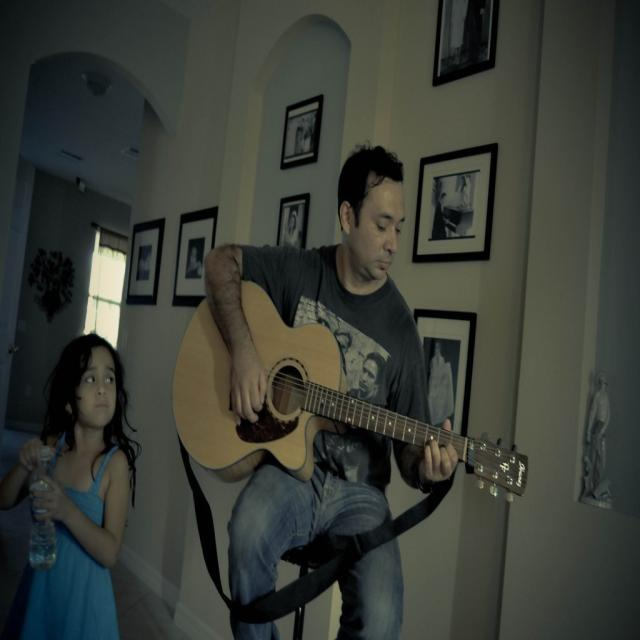guitar: (171, 281, 528, 498)
